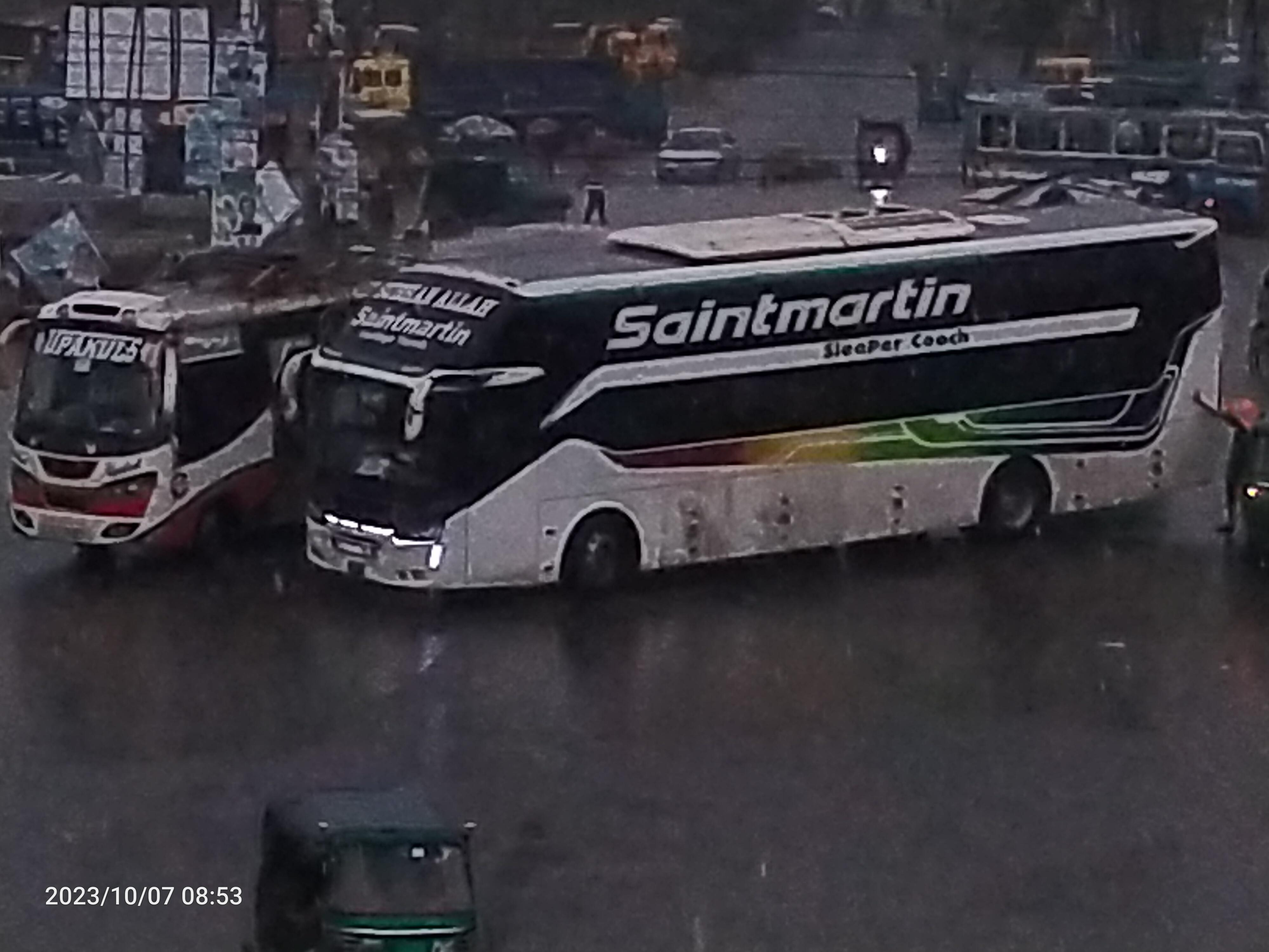Bus: (273, 174, 1259, 598), (0, 215, 384, 595), (952, 69, 1269, 217)
Car: (636, 109, 760, 202), (843, 86, 929, 198)
Truck: (320, 7, 636, 152)
